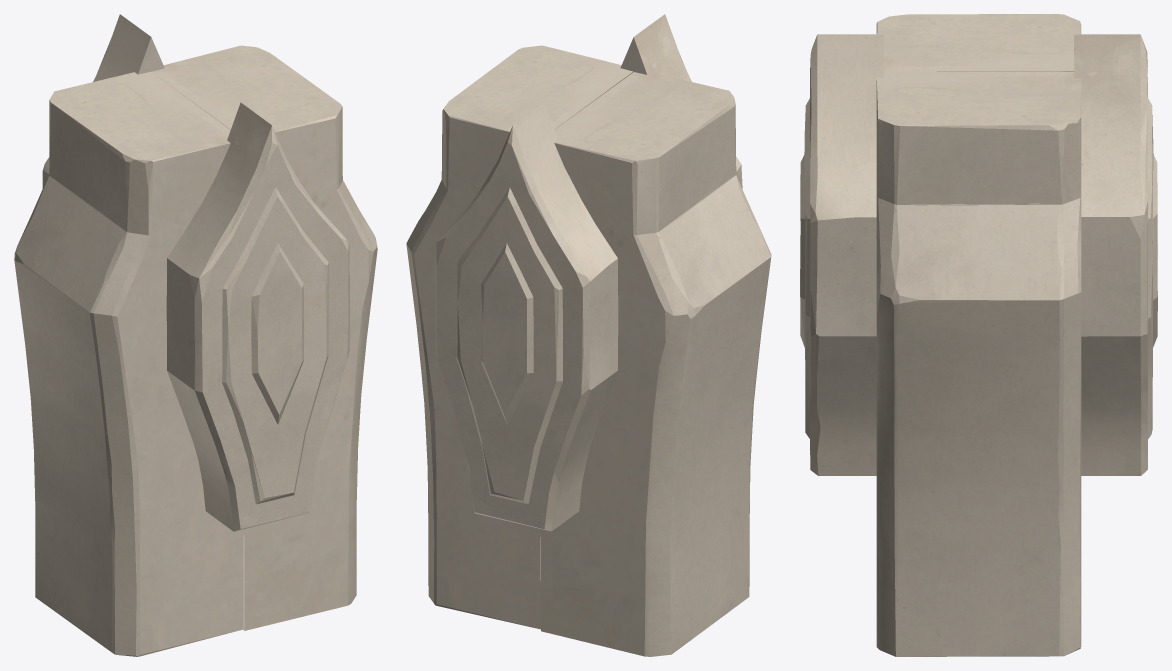
File: Regenier_Pillar_Center_Sub_1.fbx
3 renders of one model, left to right at view 1: azimuth 30°, elevation 25°; view 2: azimuth 150°, elevation 25°; view 3: azimuth 270°, elevation 25°, orthographic. The views are drawn at different scales.
Parts seen in each view (by area): view 1: Regenier_Pillar_Center_Sub_1; view 2: Regenier_Pillar_Center_Sub_1; view 3: Regenier_Pillar_Center_Sub_1.
Part boxes in pixels (x1,y1,x2,y2): Regenier_Pillar_Center_Sub_1: [14, 14, 377, 656]; Regenier_Pillar_Center_Sub_1: [406, 14, 771, 656]; Regenier_Pillar_Center_Sub_1: [800, 14, 1157, 656].
Bounding box in the file's own units: 183 × 320 × 185.
2 materials, 2 textured.
